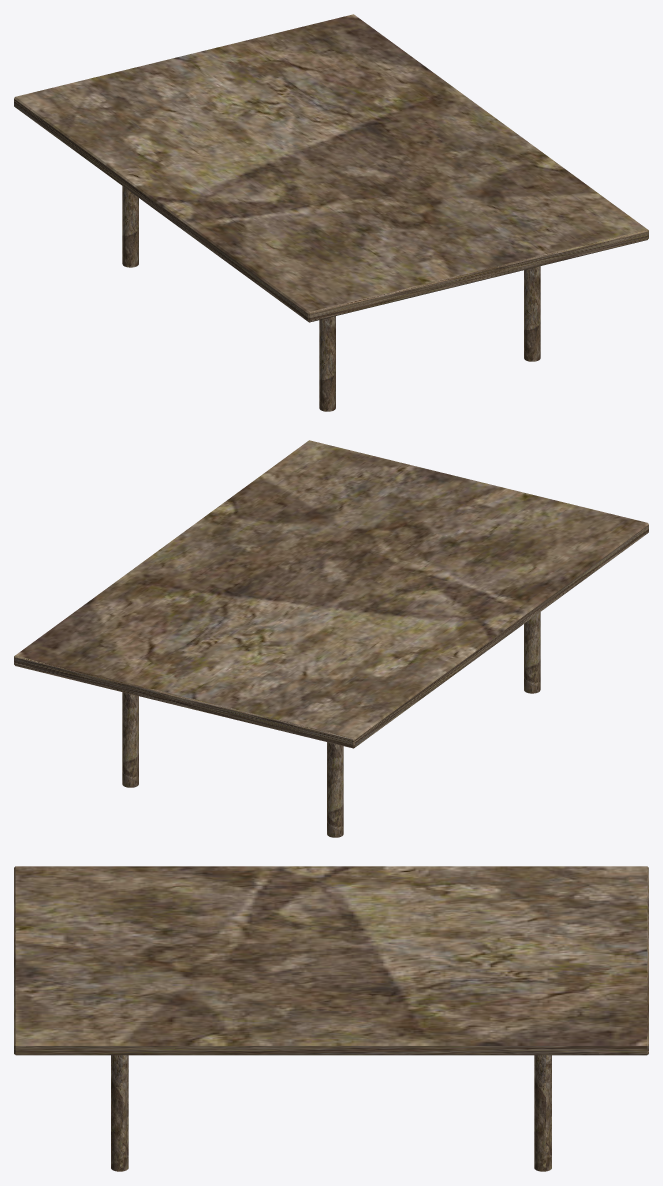
File: table.fbx
The picture shows the model from 3 angles, top to bottom: view 1: azimuth 30°, elevation 25°; view 2: azimuth 150°, elevation 25°; view 3: azimuth 270°, elevation 25°; orthographic projection. The views are drawn at different scales.
Parts seen in each view (by area): view 1: pCube1, pCylinder1, pasted__pCylinder1, pasted__pasted__pCylinder1; view 2: pCube1, pasted__pCylinder2, pasted__pasted__pCylinder1, pasted__pCylinder1; view 3: pCube1, pCylinder1, pasted__pCylinder2.
Part boxes in pixels (left/top/right/bottom): pCube1: left=14, top=14, right=648, bottom=322; pCylinder1: left=524, top=266, right=540, bottom=361; pasted__pCylinder1: left=319, top=316, right=335, bottom=411; pasted__pasted__pCylinder1: left=122, top=186, right=138, bottom=267; pCube1: left=14, top=440, right=648, bottom=748; pasted__pCylinder2: left=122, top=692, right=138, bottom=787; pasted__pasted__pCylinder1: left=327, top=742, right=343, bottom=837; pasted__pCylinder1: left=524, top=612, right=540, bottom=693; pCube1: left=14, top=866, right=648, bottom=1055; pCylinder1: left=111, top=1055, right=128, bottom=1171; pasted__pCylinder2: left=534, top=1055, right=551, bottom=1171.
Size of the model in its own units: 10 by 4.15 by 15.
Materials: 1 (1 with a texture image).
